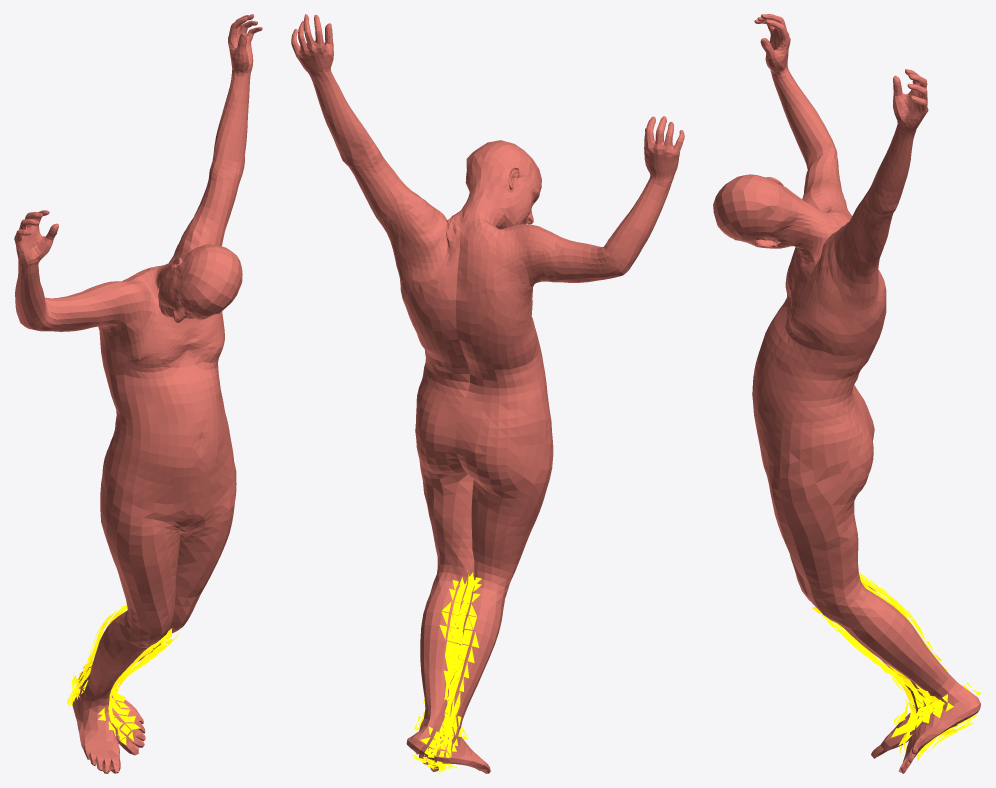
Rendered from hwc_collision_05.glb.
3 views of the same model, side by side, from view 1: azimuth 30°, elevation 25°; view 2: azimuth 150°, elevation 25°; view 3: azimuth 270°, elevation 25° (orthographic). The views are drawn at different scales.
Parts seen in each view (by area): view 1: hwc_collision, collision_marker; view 2: hwc_collision, collision_marker; view 3: hwc_collision, collision_marker.
Boxes of the visible parts, x1,y1,x2,y2 form: hwc_collision: (14, 14, 262, 773); collision_marker: (67, 605, 179, 745); hwc_collision: (291, 14, 684, 773); collision_marker: (411, 570, 481, 772); hwc_collision: (713, 14, 980, 773); collision_marker: (812, 571, 981, 761).
Bounding box in the file's own units: 0.9291 × 2.03 × 0.6452.
